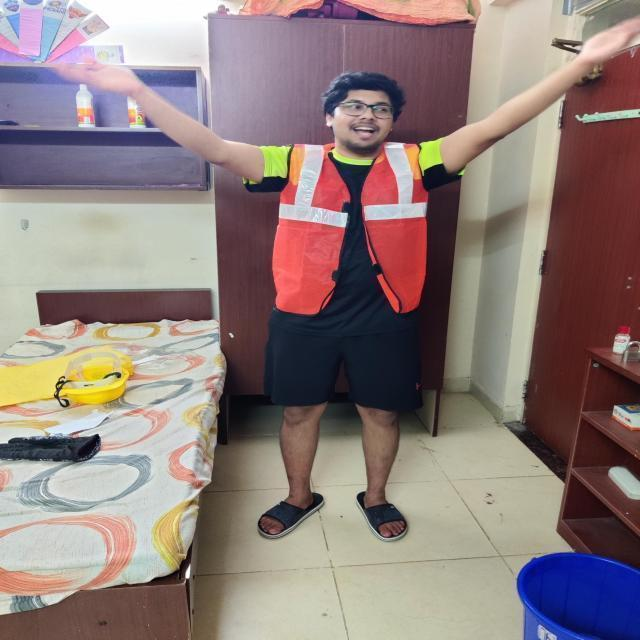no-helmet: (318, 74, 406, 126)
vest: (276, 138, 436, 323)
